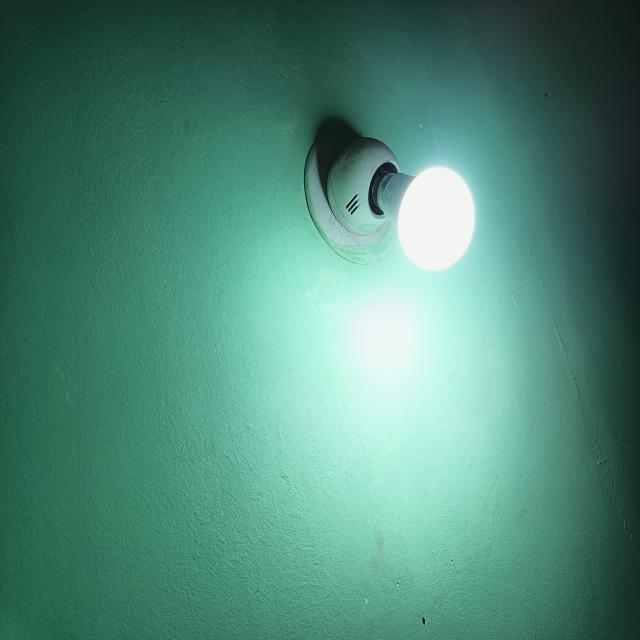bulb_on: (396, 164, 476, 272)
